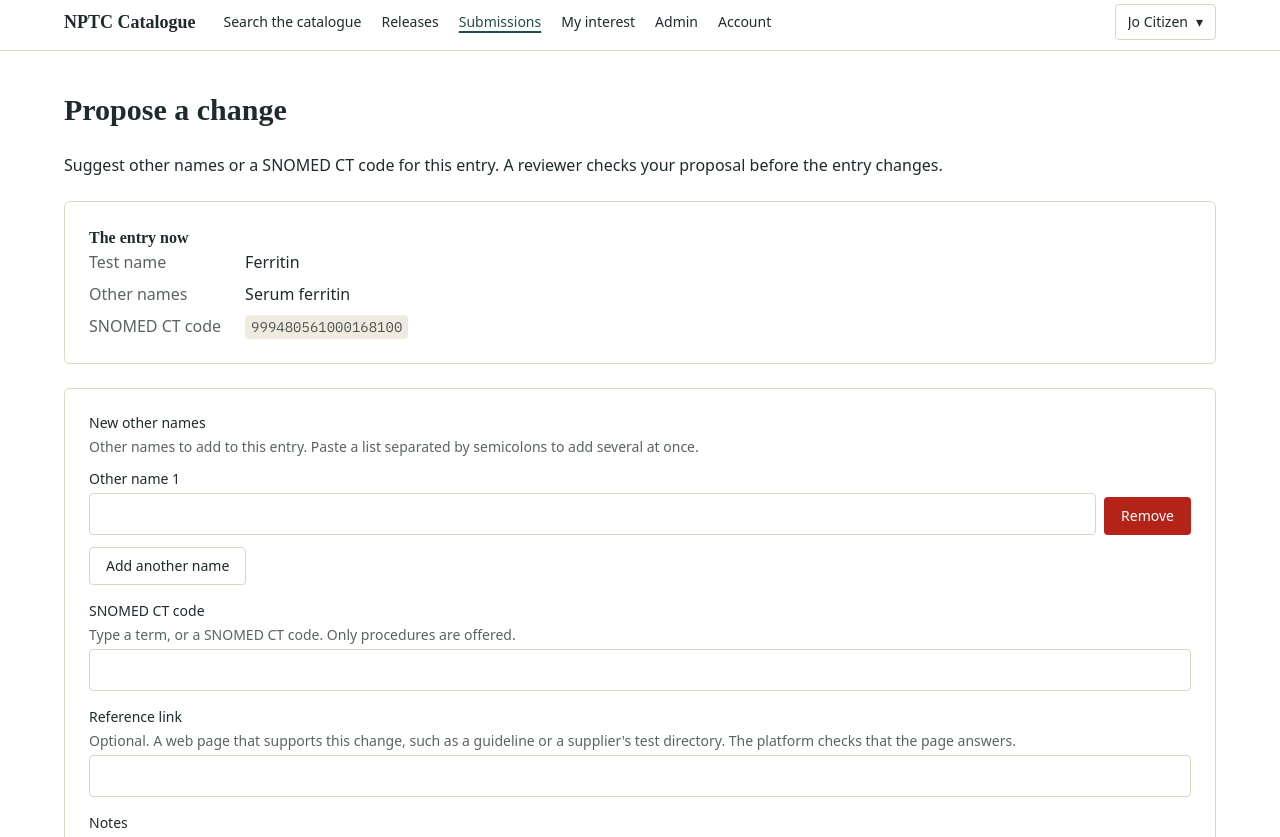
it: sending an amendment (FR-35) › splits a pasted list into one name each
Click the field labelled "Other name 1". click: (593, 514)
box: x1=89 y1=492 x2=1096 y2=534
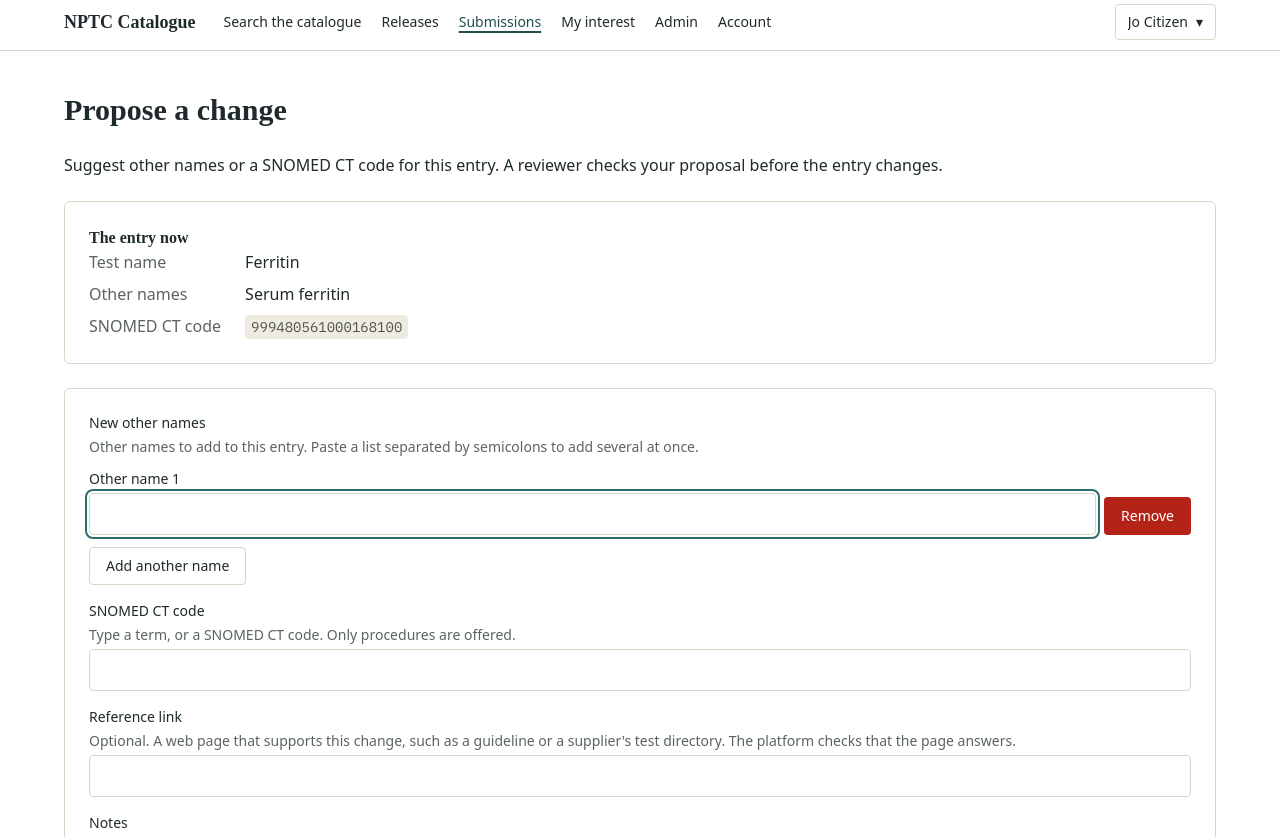
Type keys "Ferritin; Serum Fe store"
(page scrolled)
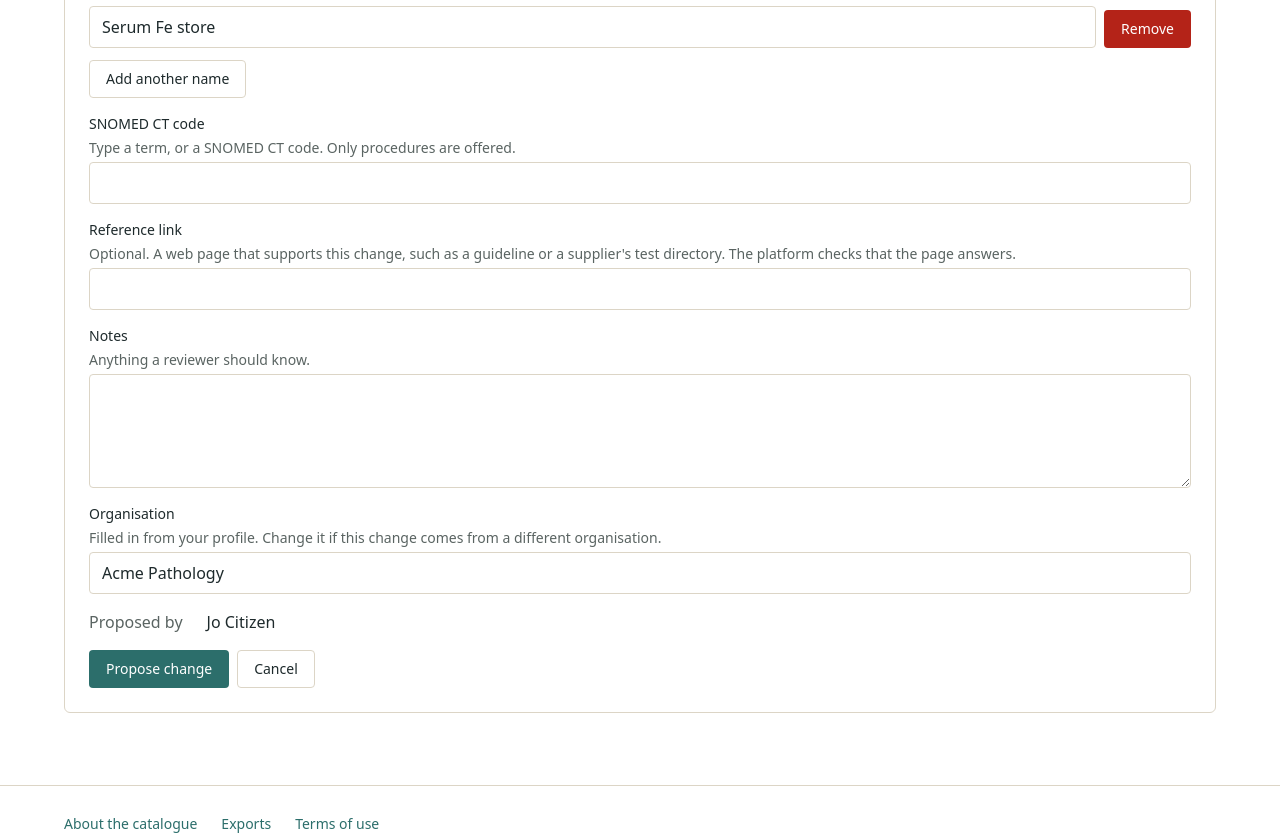
Click the button "Propose change". click: (159, 668)
box: x1=89 y1=650 x2=229 y2=688
(page scrolled)
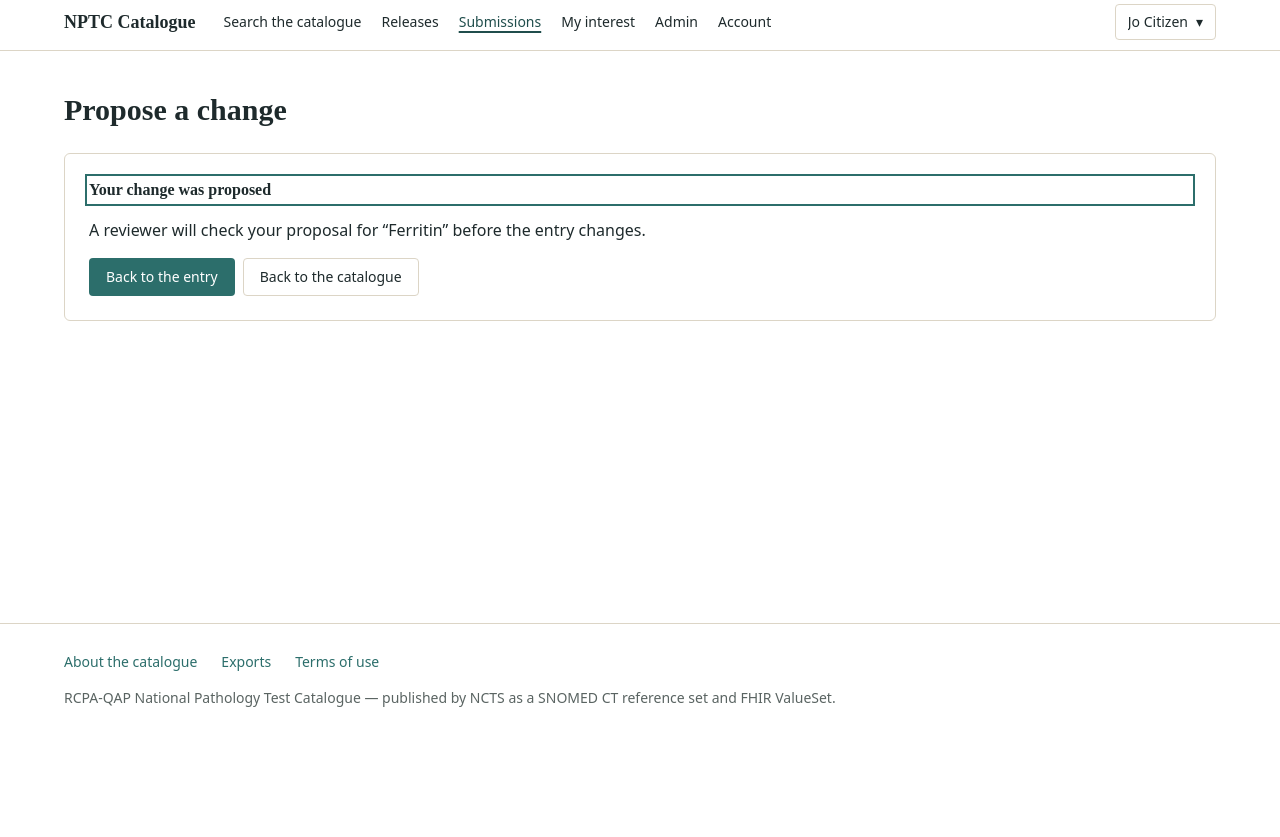
Expected: the heading "Your change was proposed" is shown, x1=89 y1=180 x2=271 y2=198
